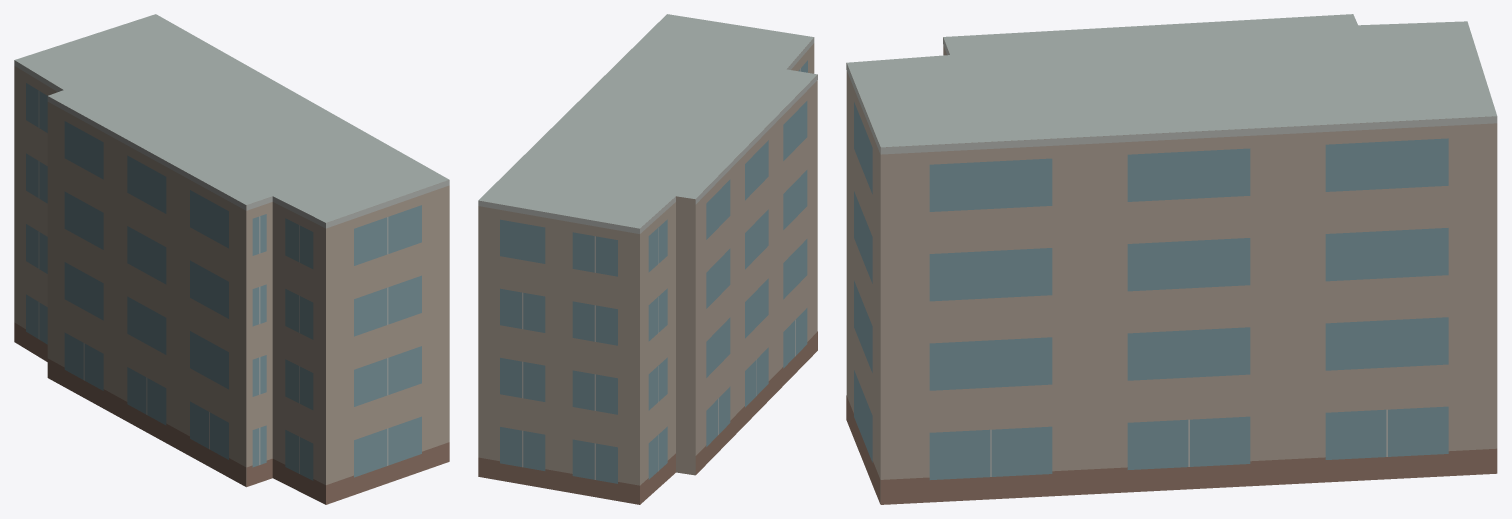
The model's file is survey-upis-33014415.glb.
The picture shows the model from 3 angles, left to right: view 1: azimuth 30°, elevation 25°; view 2: azimuth 150°, elevation 25°; view 3: azimuth 270°, elevation 25°; orthographic projection. The views are drawn at different scales.
Parts seen in each view (by area): view 1: survey-upis-33014415.tmp; view 2: survey-upis-33014415.tmp; view 3: survey-upis-33014415.tmp.
Part boxes in pixels (left/top/right/bottom): survey-upis-33014415.tmp: left=14, top=14, right=449, bottom=504; survey-upis-33014415.tmp: left=478, top=14, right=817, bottom=504; survey-upis-33014415.tmp: left=846, top=14, right=1497, bottom=504.
Size of the model in its own units: 9.77 by 12.2 by 20.14.
